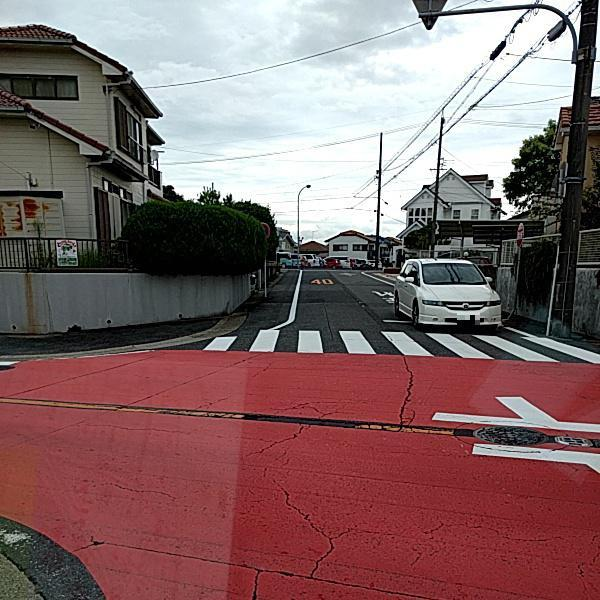D50: (468, 424, 544, 445)
